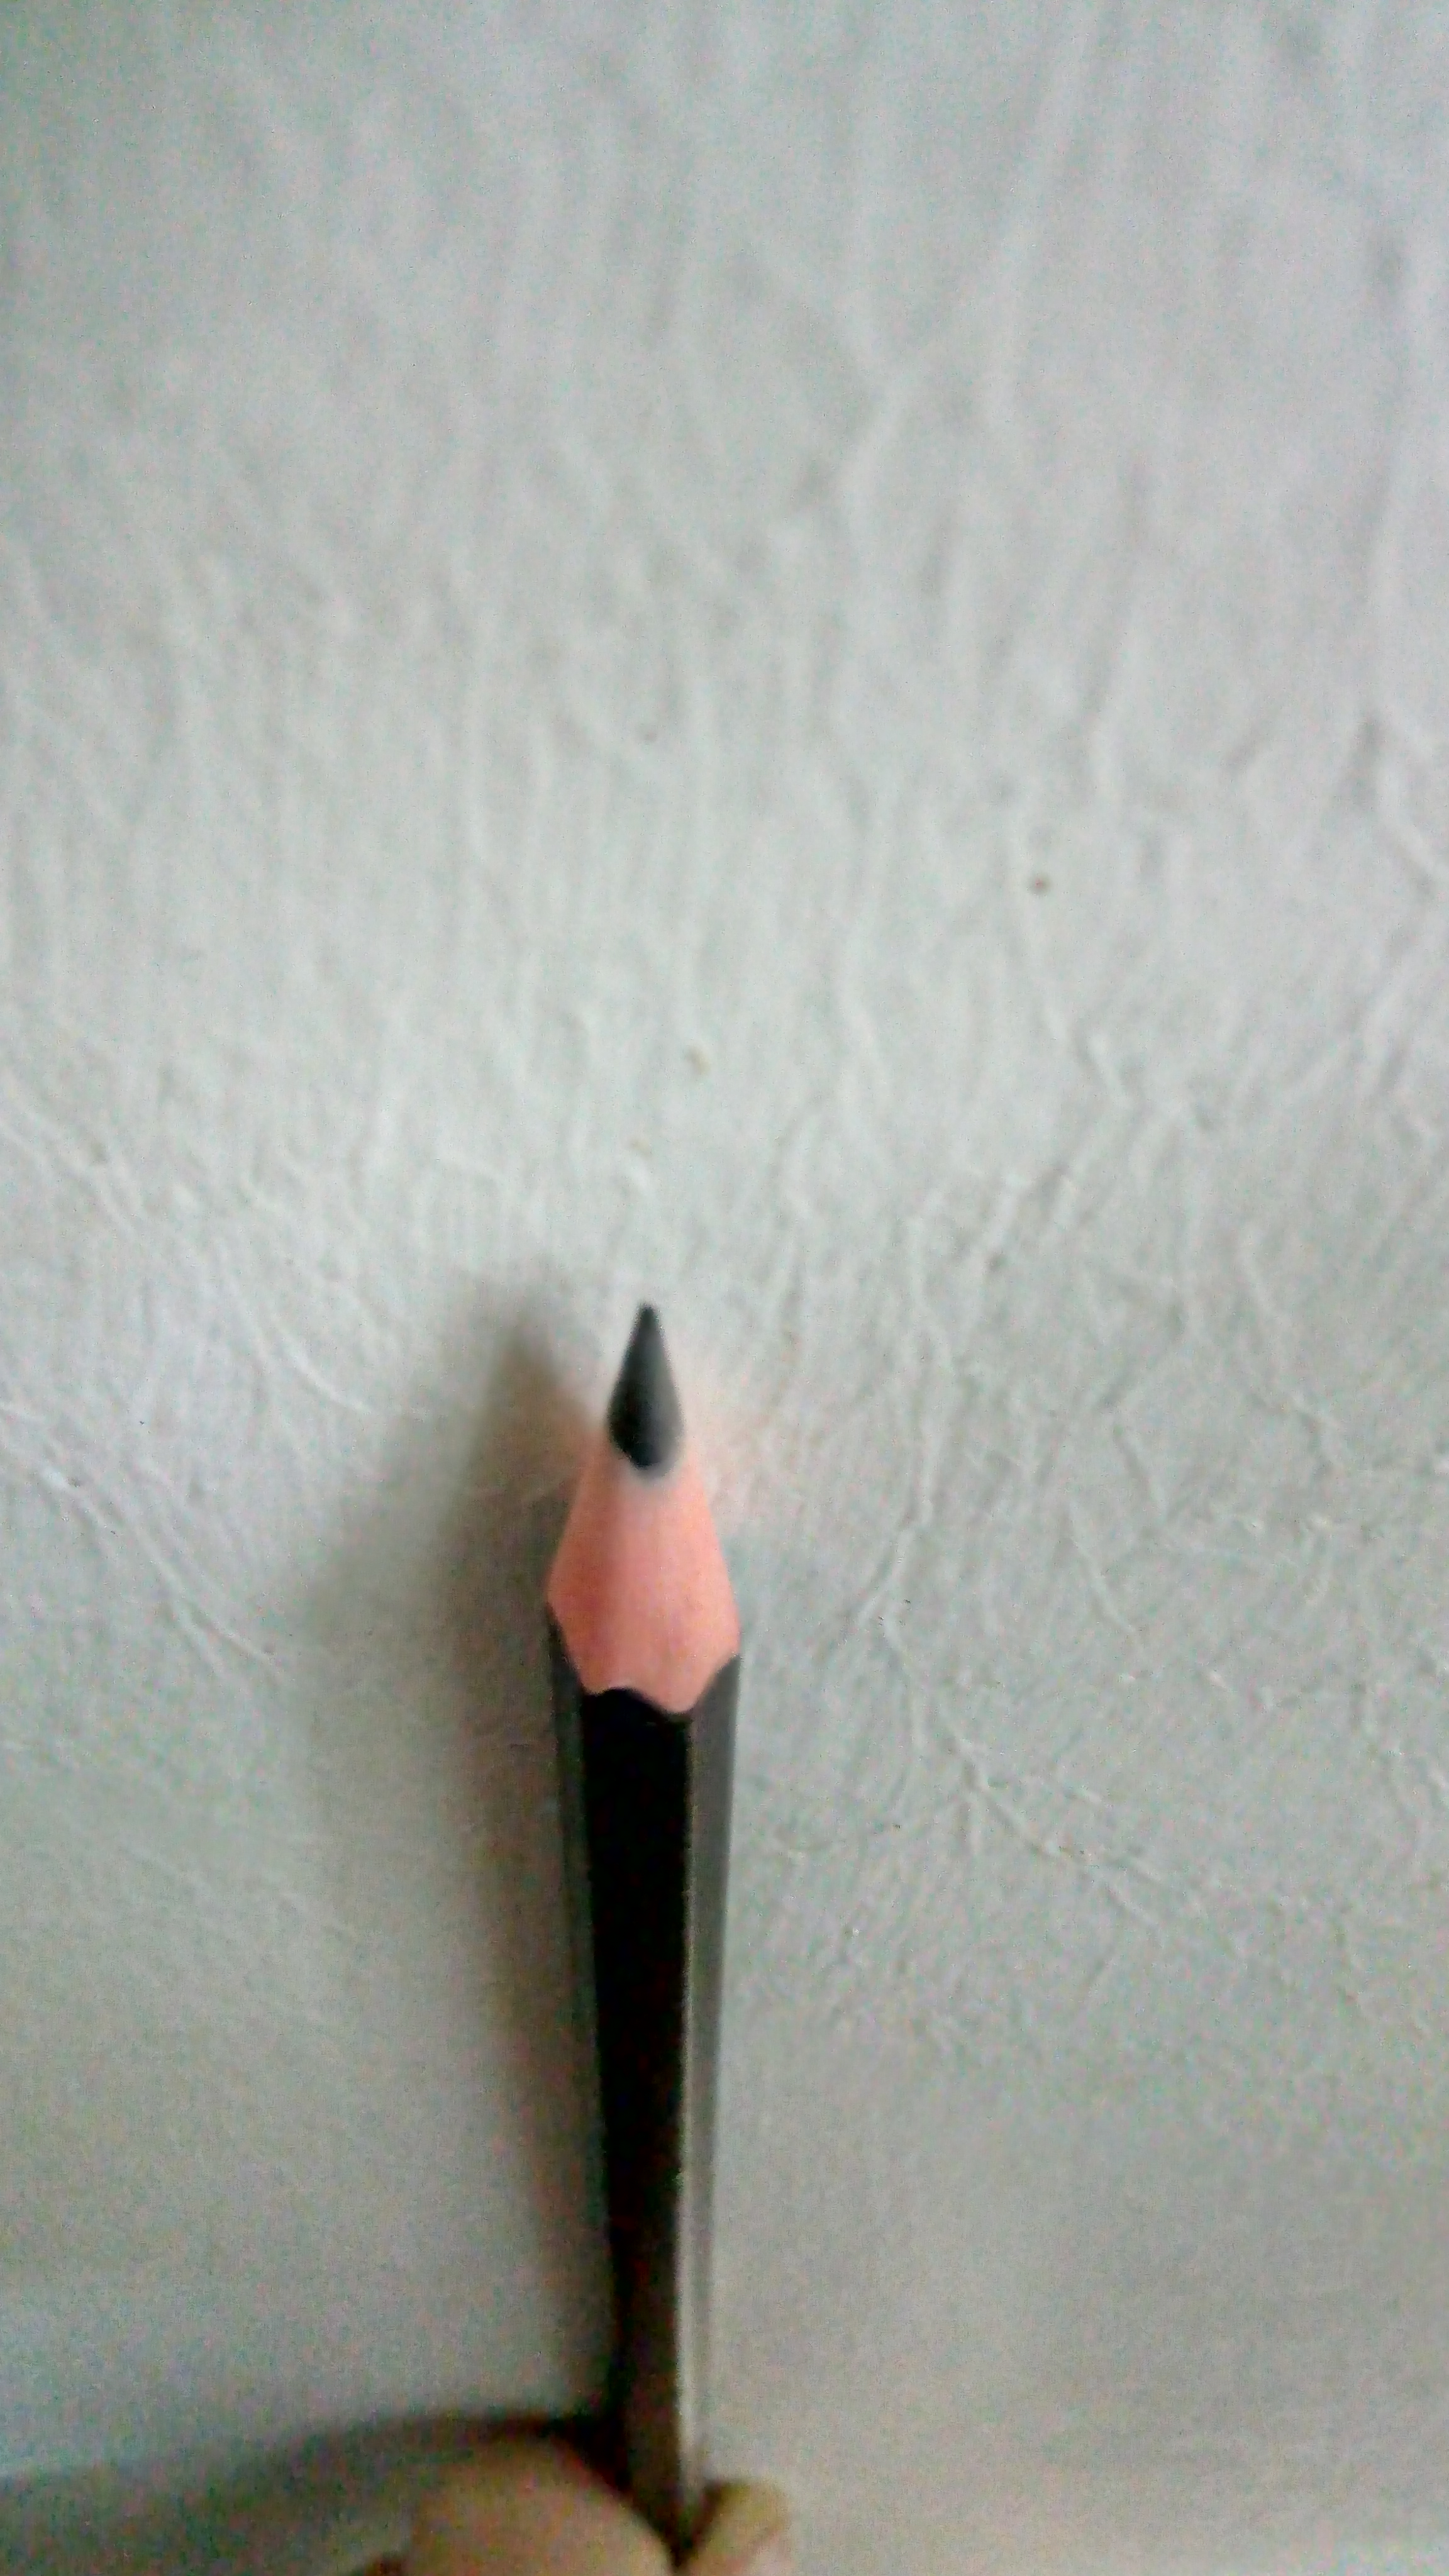pen_tip: (451, 1238, 909, 1904)
